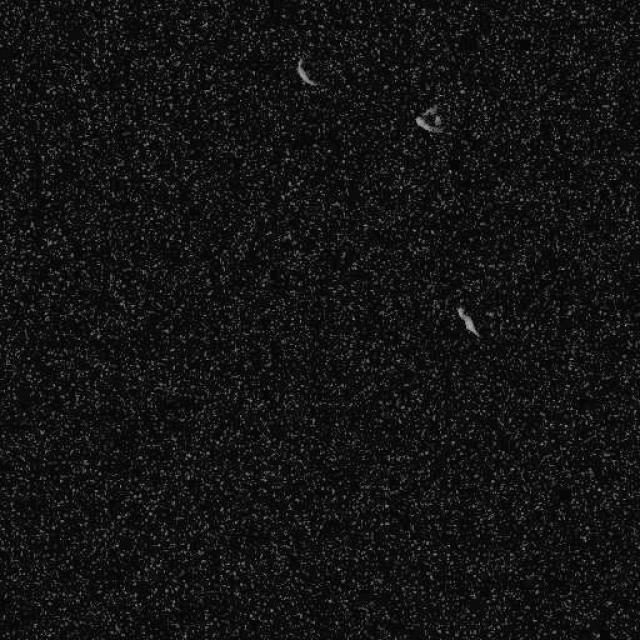D2: (414, 104, 446, 134), (454, 304, 481, 338), (295, 58, 319, 88)
